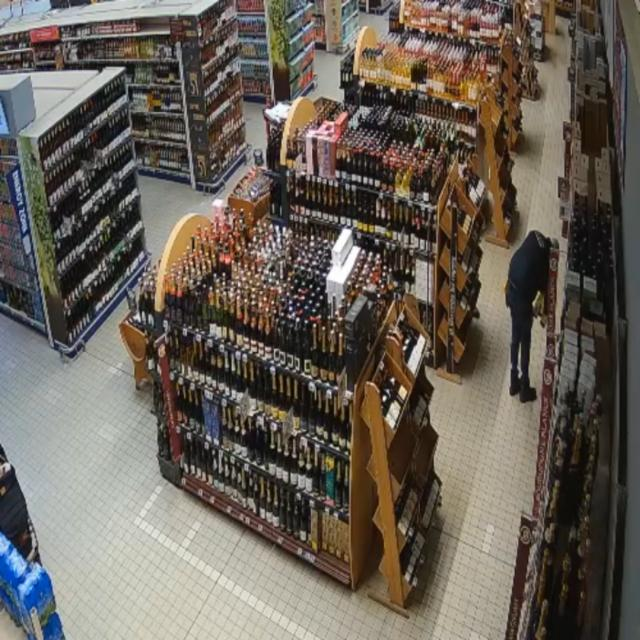article: (531, 291, 544, 318), (539, 314, 549, 329), (538, 303, 544, 318)
person: (506, 232, 557, 402), (0, 446, 39, 562)
